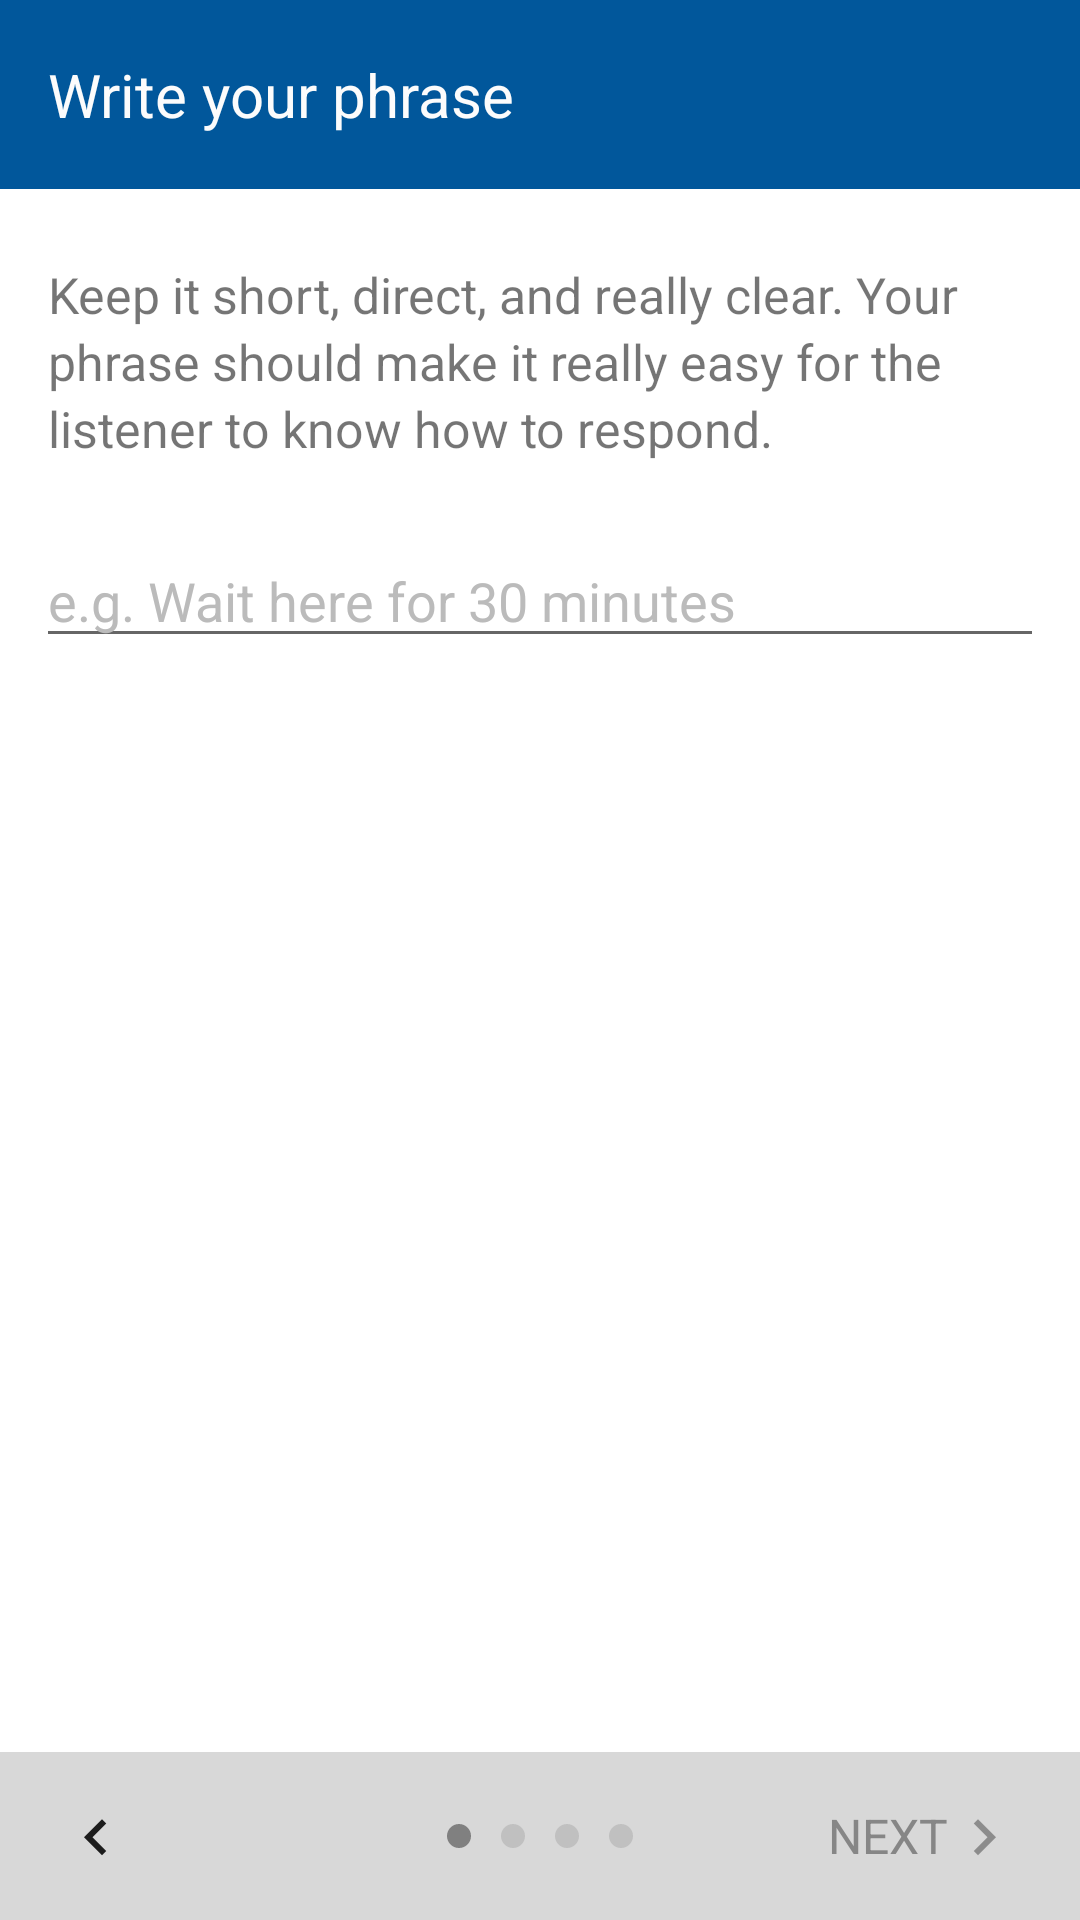

Screen size 1080 × 1920. Icon name, then its center in pixels as (x=x, y=y):
back arrow: (x=95, y=1837)
forward arrow: (x=985, y=1837)
